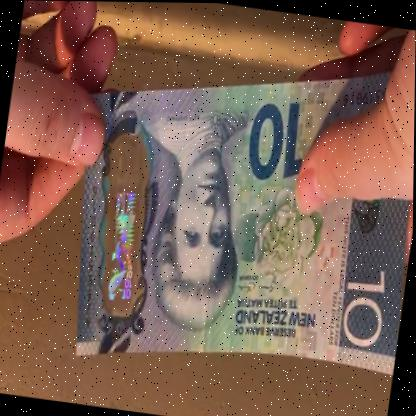10B: (90, 141, 155, 306)
